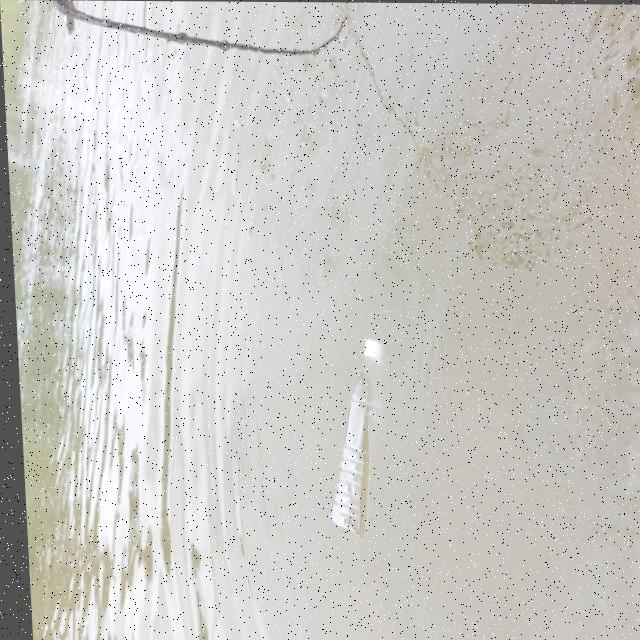waterbottle: (314, 326, 399, 535)
